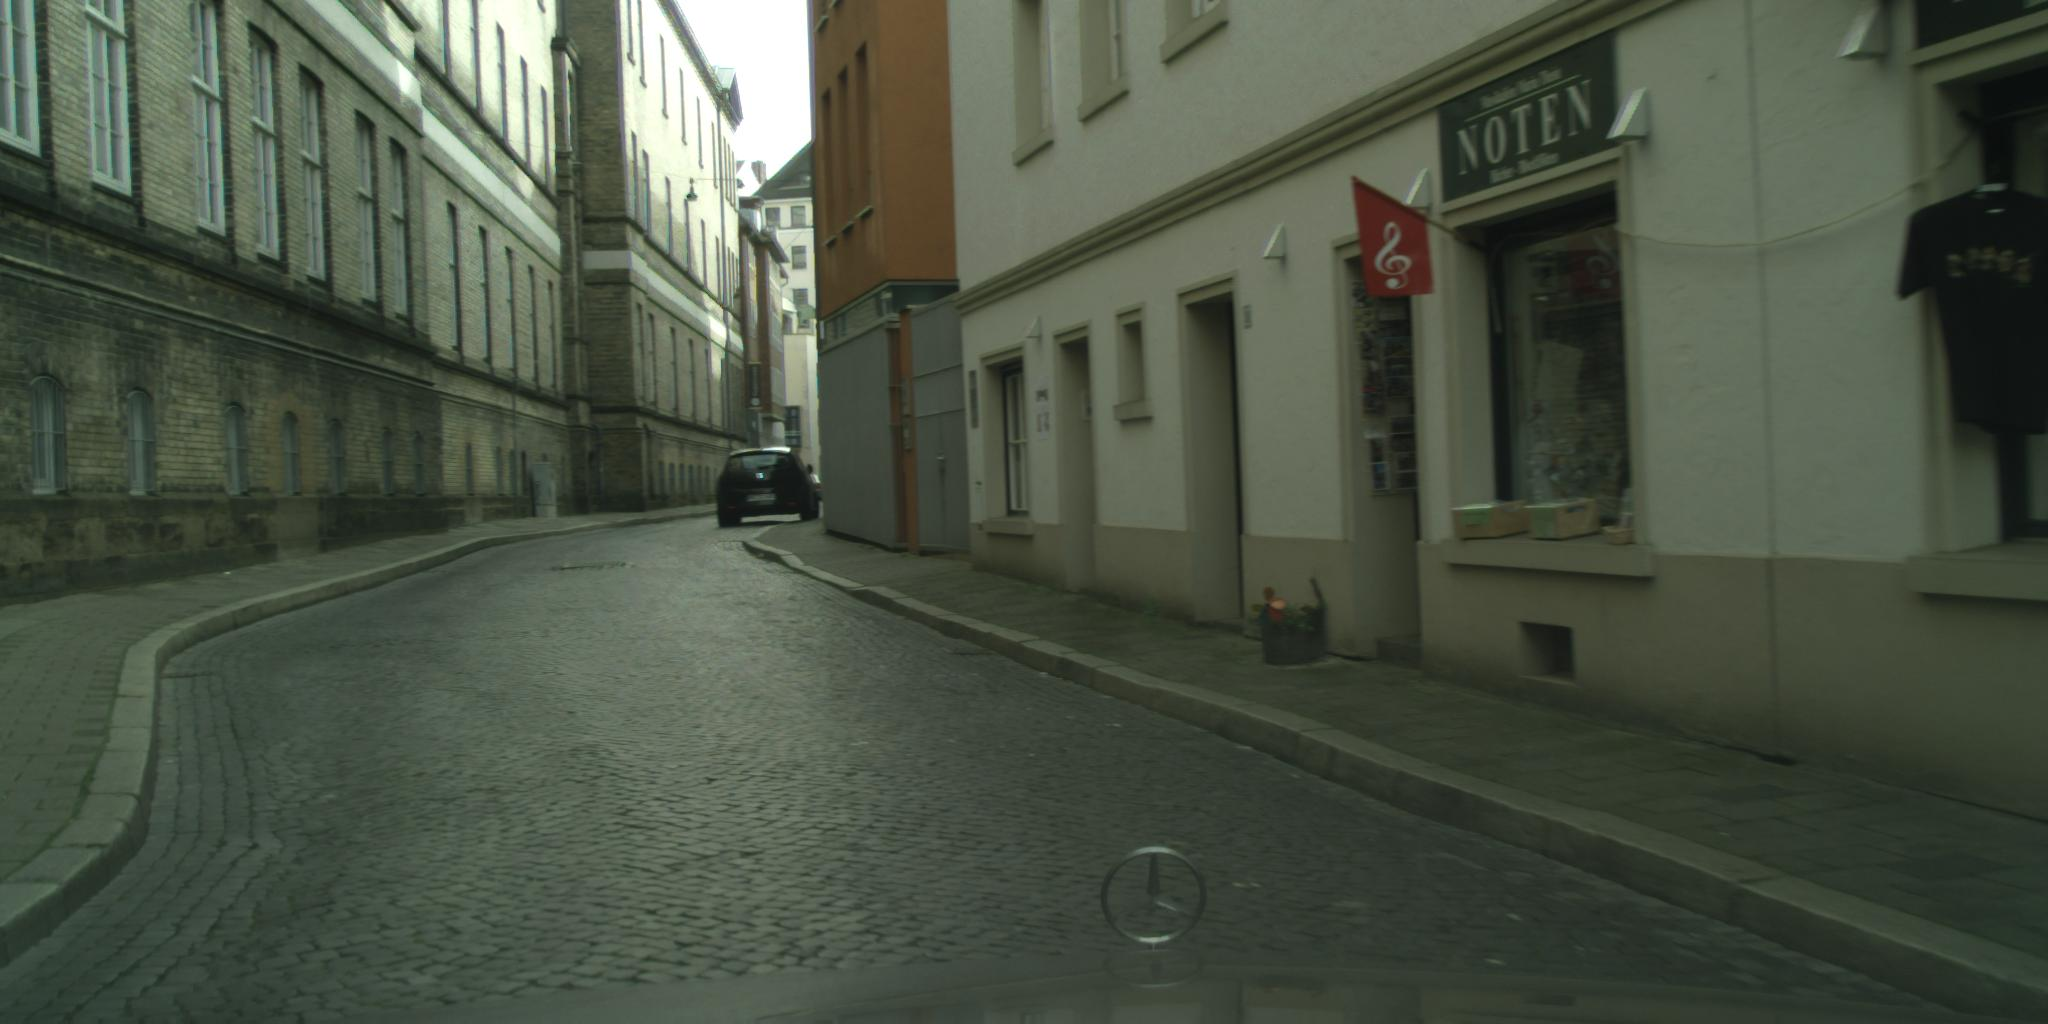car: (717, 447, 820, 528), (806, 475, 824, 503), (812, 475, 825, 502)
